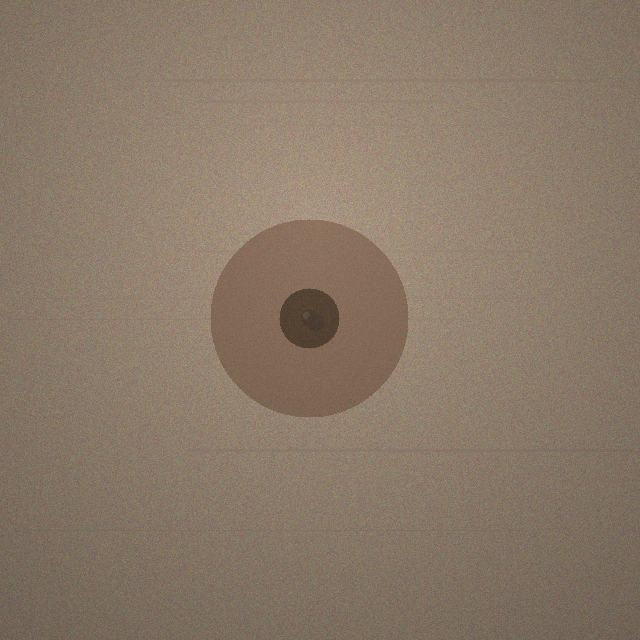cold_weld: (210, 219, 408, 417)
